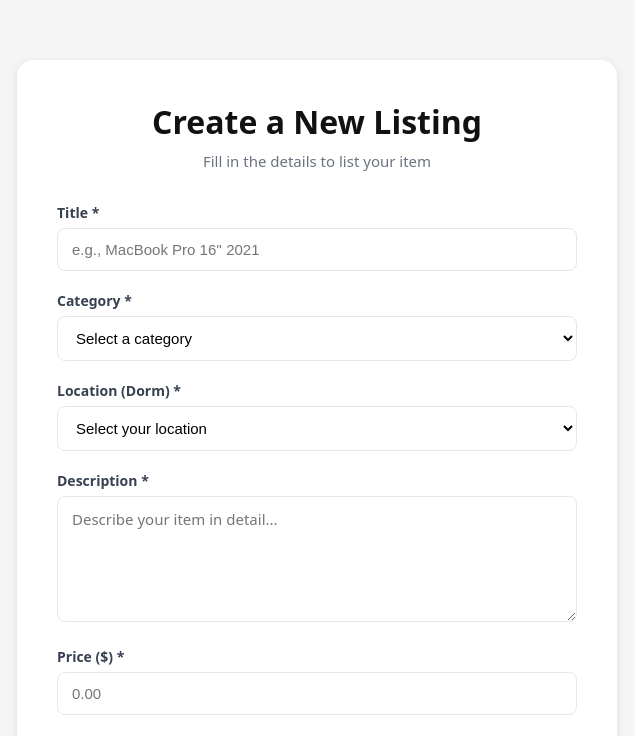
it: CreateListing › Form Validation › shows error when category is not selected
Type "Test Title" into the field labelled "Title *". click: (317, 250)
box: [57,228,577,271]
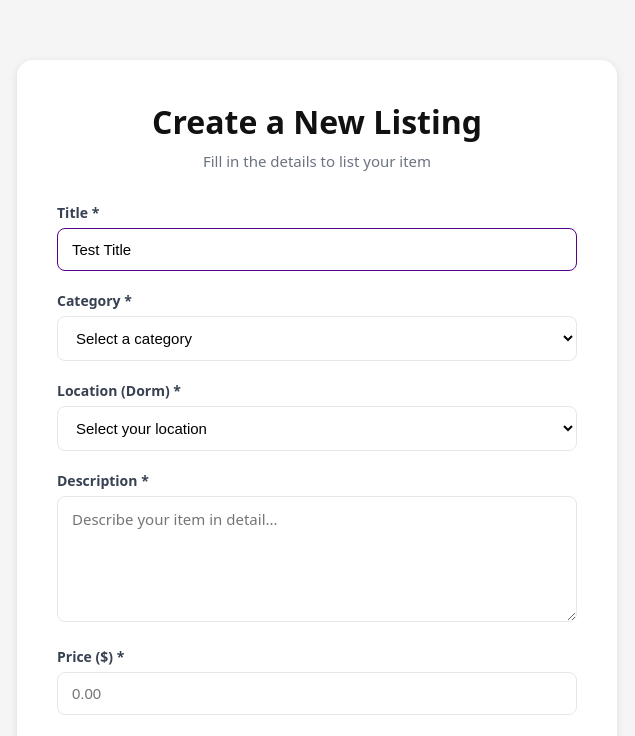
Type "Test Description" into the text box labelled "Description *". click: (317, 559)
box: [57,496,577,622]
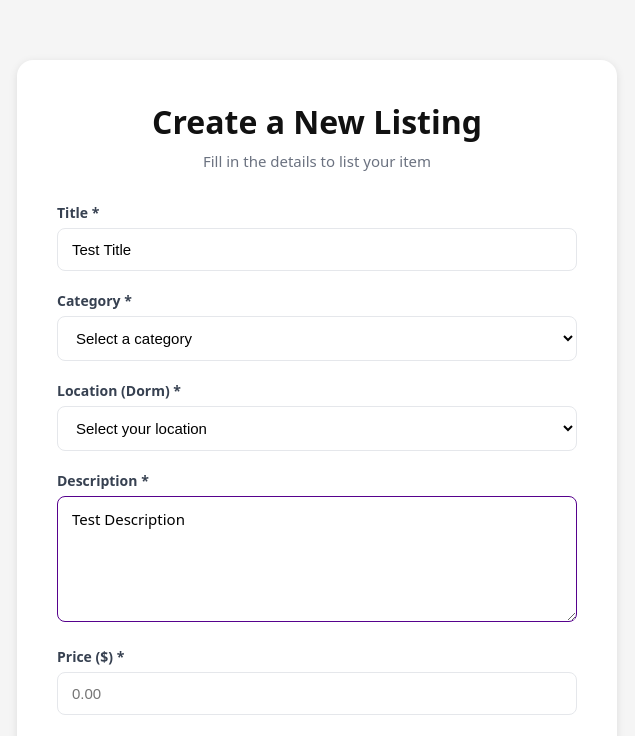
Type "99.99" into the number field labelled "Price ($) *". click: (317, 694)
box: [57,672,577,715]
(page scrolled)
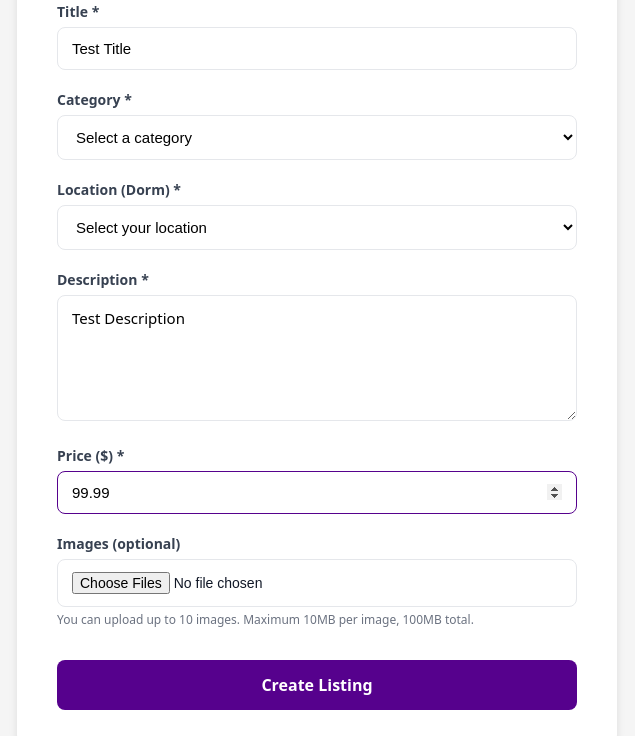
Click the button "Create Listing". click: (317, 685)
box: [57,660,577,710]
(page scrolled)
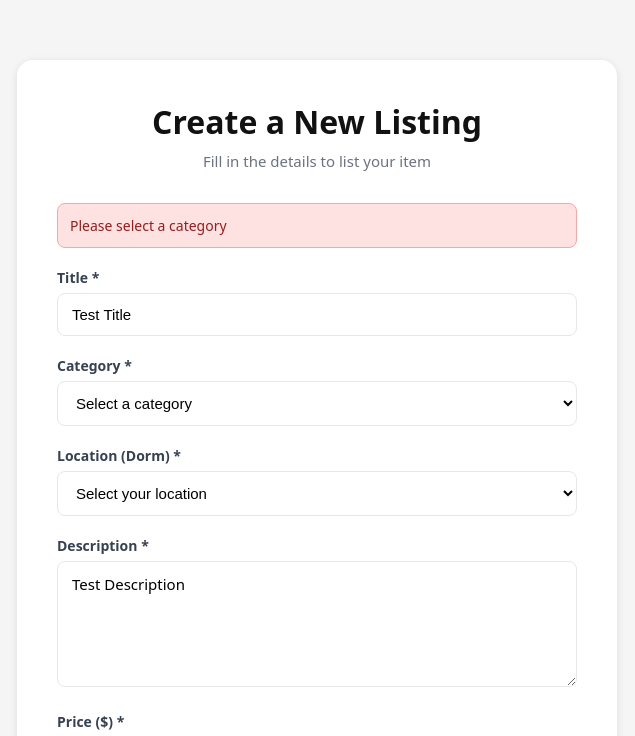
Check: the text "Please select a category" is shown, box [57,203,577,248]
